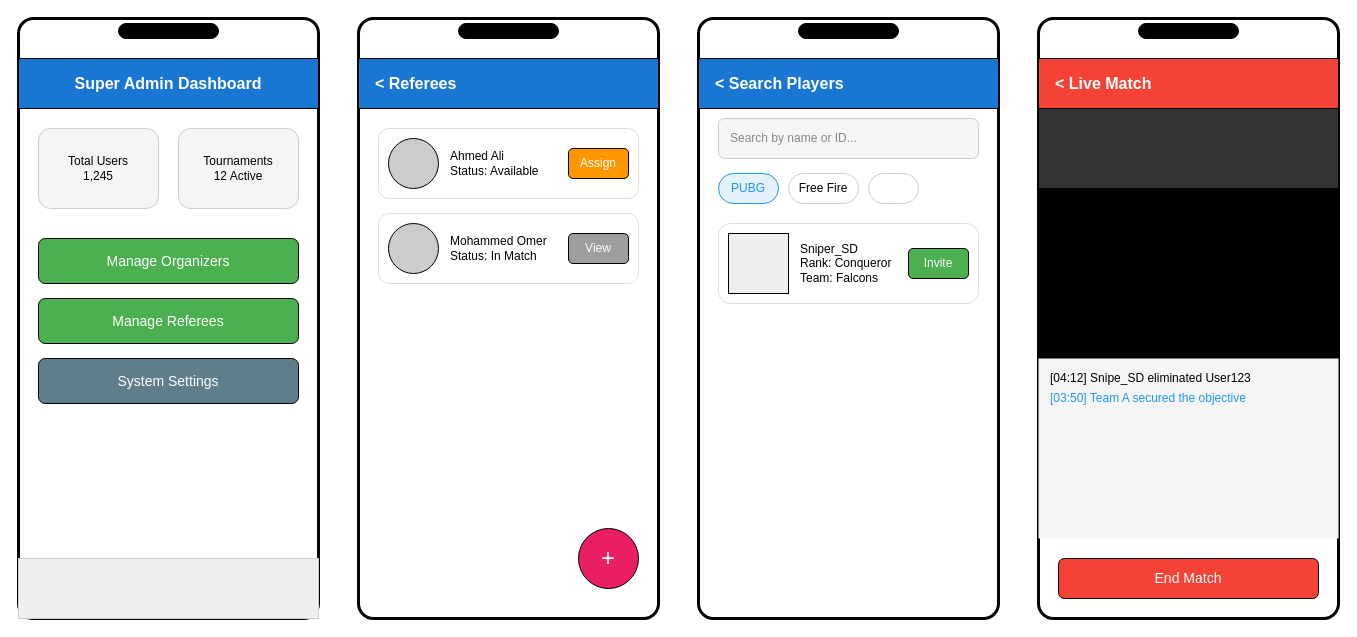
Image size: 1357x637. Some labels were removed from this diagram. The centre of each missing label's shape, as x and y in pixels:
"Home | Reports | Profile" goes at (x=168, y=588).
"Img" goes at (x=758, y=263).
"Live Stream Placeholder" goes at (x=1188, y=273).
"Pro" goes at (x=893, y=188).
"TEAM A 2 - 1 TEAM B 05:23" goes at (x=1188, y=148).
